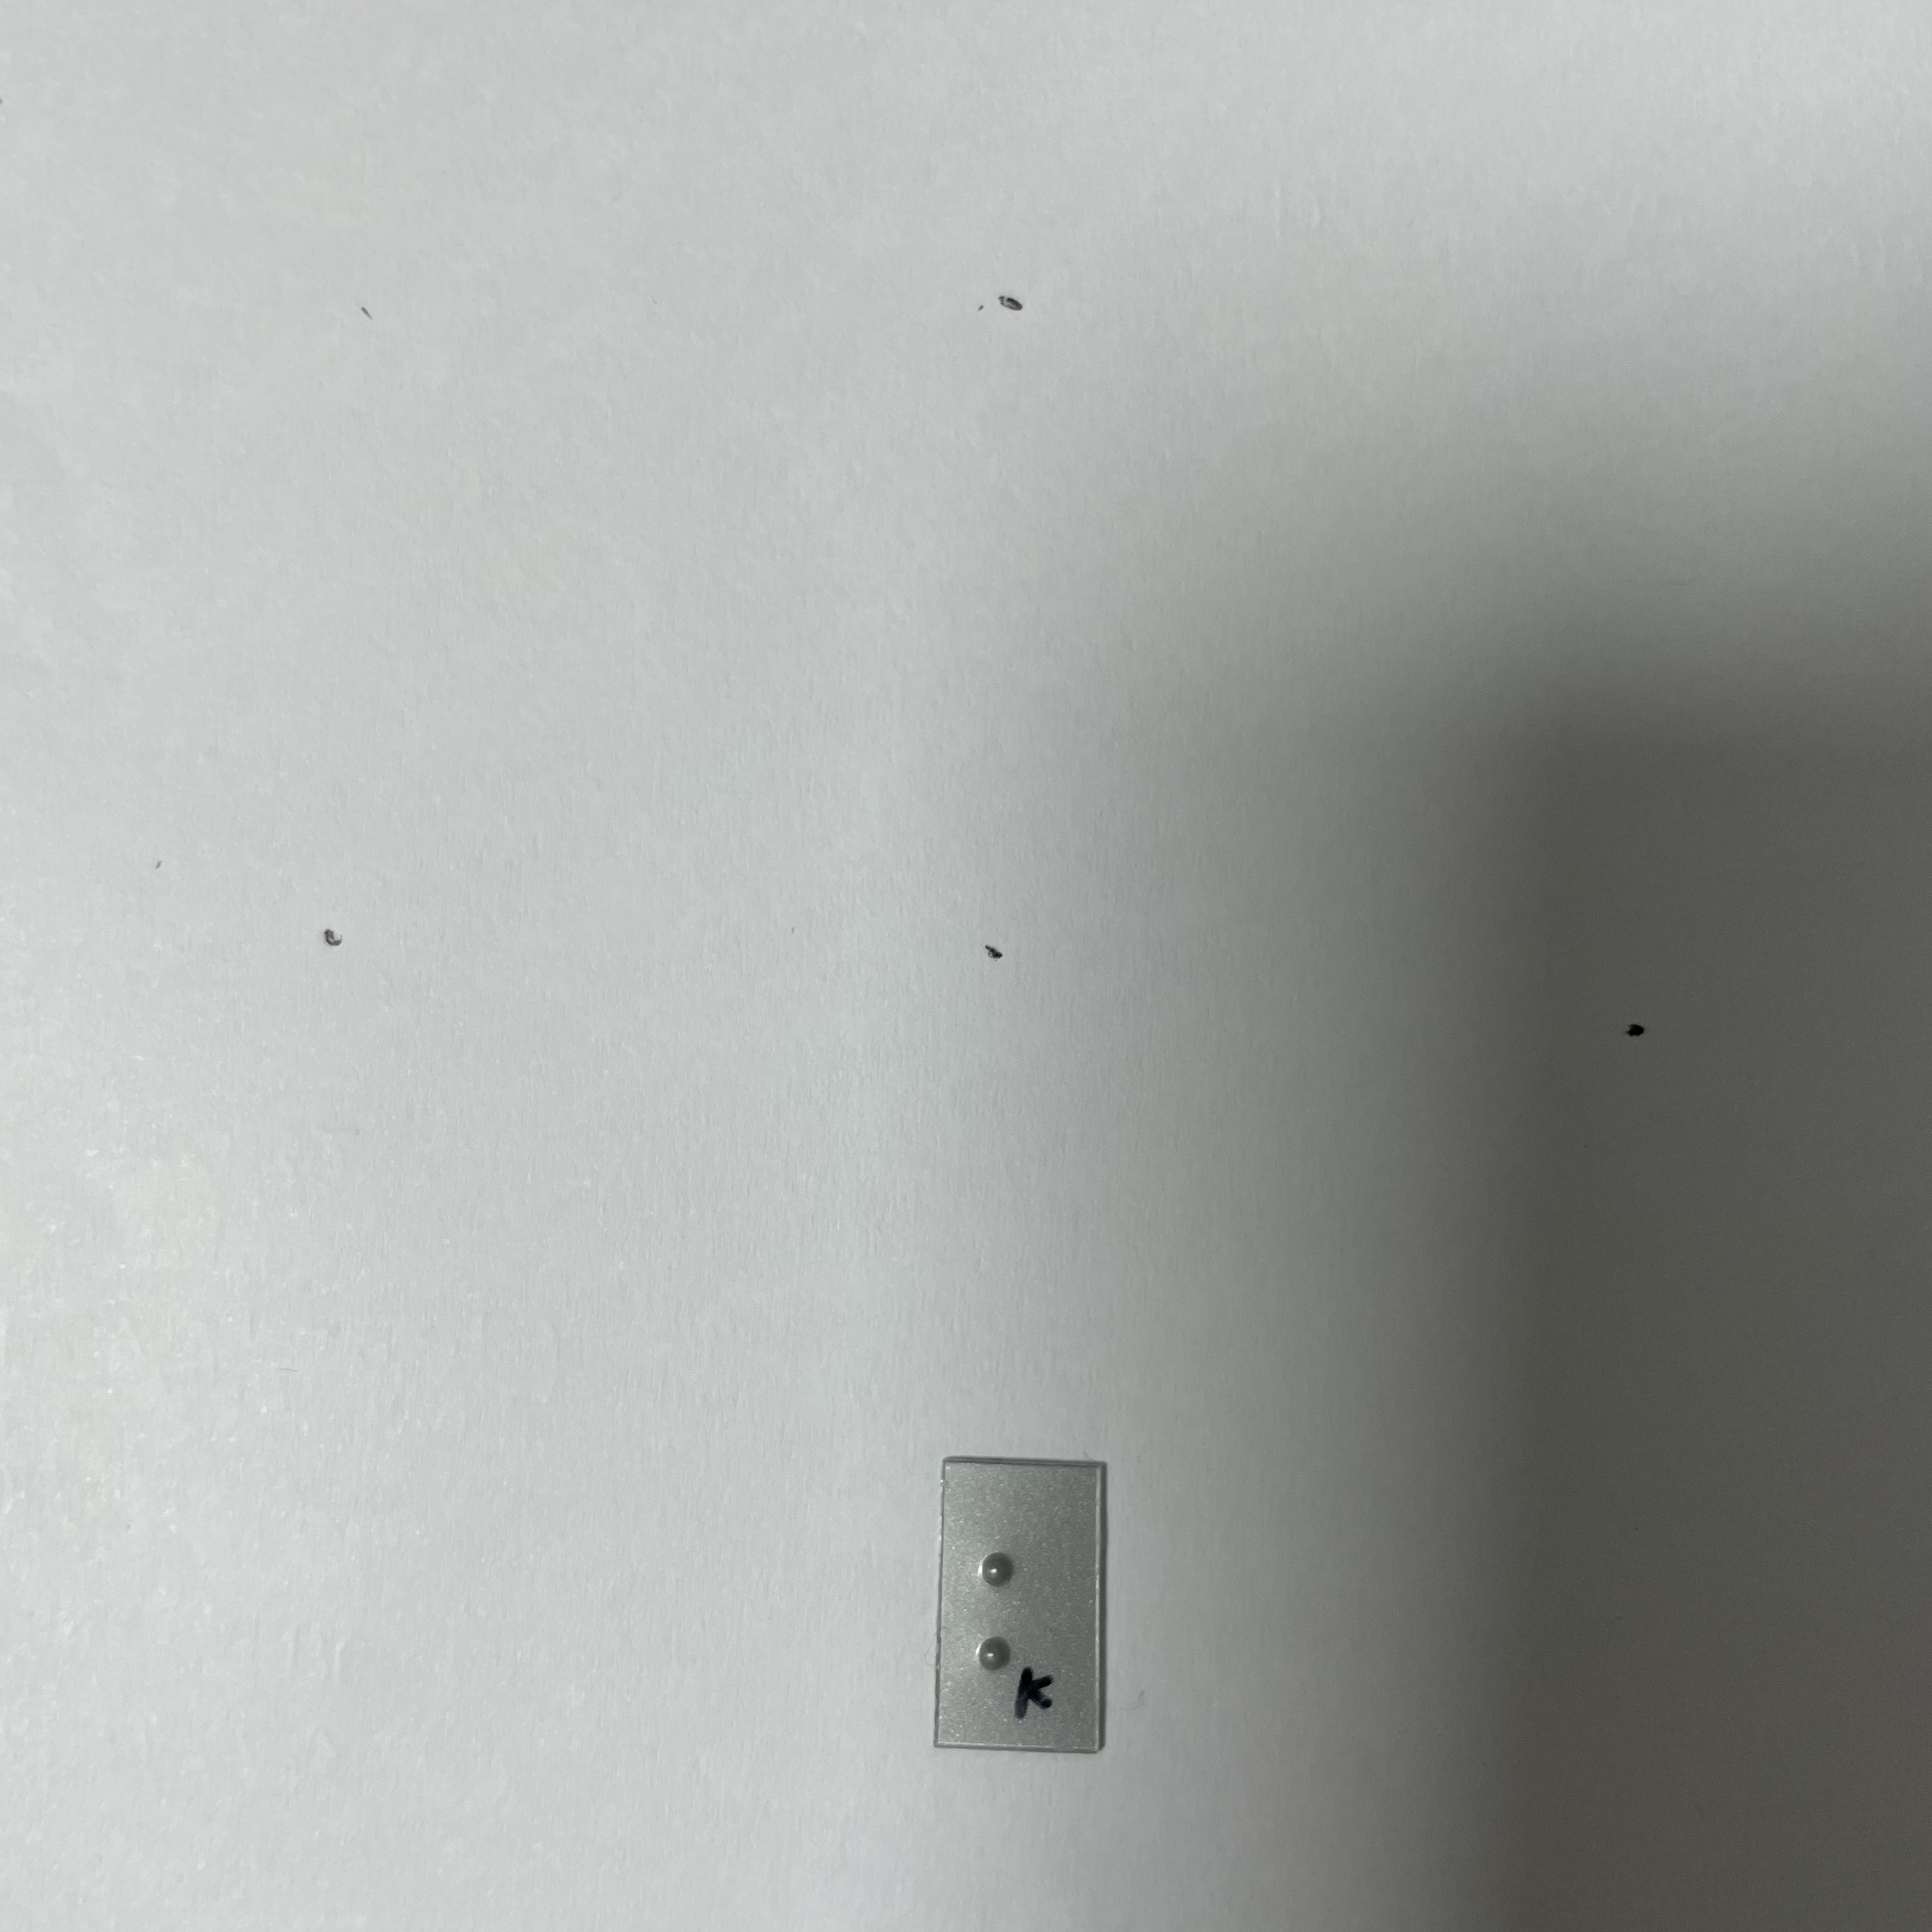k: (963, 1538, 1072, 1678)
